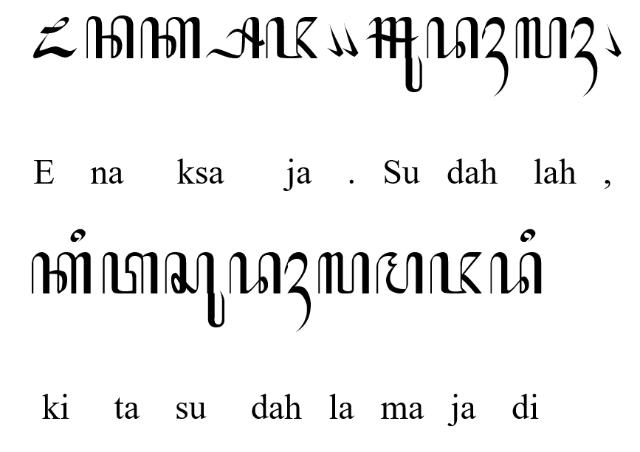E: (32, 16, 78, 58)
Su: (366, 17, 422, 93)
_h1: (482, 16, 510, 98), (570, 16, 598, 98), (286, 251, 312, 332)
_s: (203, 16, 264, 60)
d: (426, 17, 478, 60), (229, 251, 281, 294), (490, 251, 542, 294)
i: (520, 229, 536, 243), (70, 230, 86, 243)
j: (264, 17, 318, 60), (430, 251, 482, 295)
k: (140, 16, 202, 60), (32, 252, 92, 294)
kom: (604, 22, 622, 58), (327, 22, 343, 58), (342, 22, 358, 56)
l: (318, 250, 370, 296), (514, 17, 568, 60)
m: (376, 252, 424, 294)
n: (86, 14, 134, 60)
su: (164, 251, 226, 329)
t: (102, 251, 160, 295)
